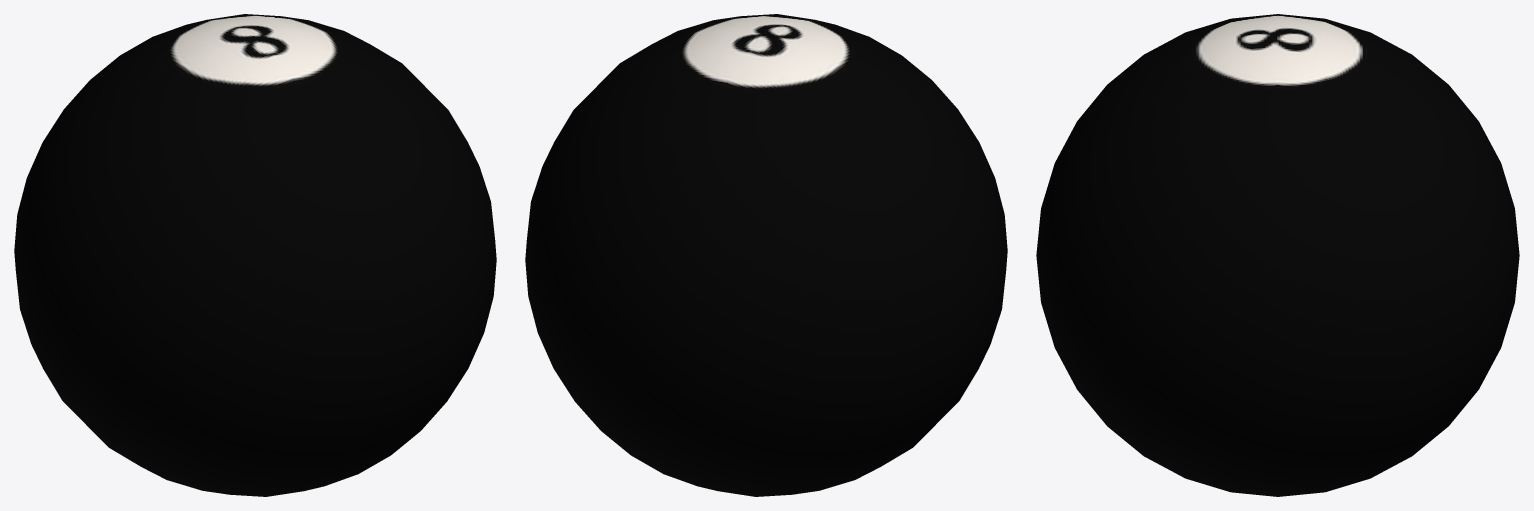
File: Billiard Ball 8.glb
3 renders of one model, left to right at view 1: azimuth 30°, elevation 25°; view 2: azimuth 150°, elevation 25°; view 3: azimuth 270°, elevation 25°, orthographic.
Visible parts, largest first — view 1: Ball8_14 - Default_0; view 2: Ball8_14 - Default_0; view 3: Ball8_14 - Default_0.
Boxes of the visible parts, bbox=[...] form: Ball8_14 - Default_0: bbox=[14, 14, 496, 496]; Ball8_14 - Default_0: bbox=[525, 14, 1007, 496]; Ball8_14 - Default_0: bbox=[1036, 14, 1519, 496].
Bounding box in the file's own units: 37.86 × 37.86 × 37.86.
Materials: 1 (1 with a texture image).
